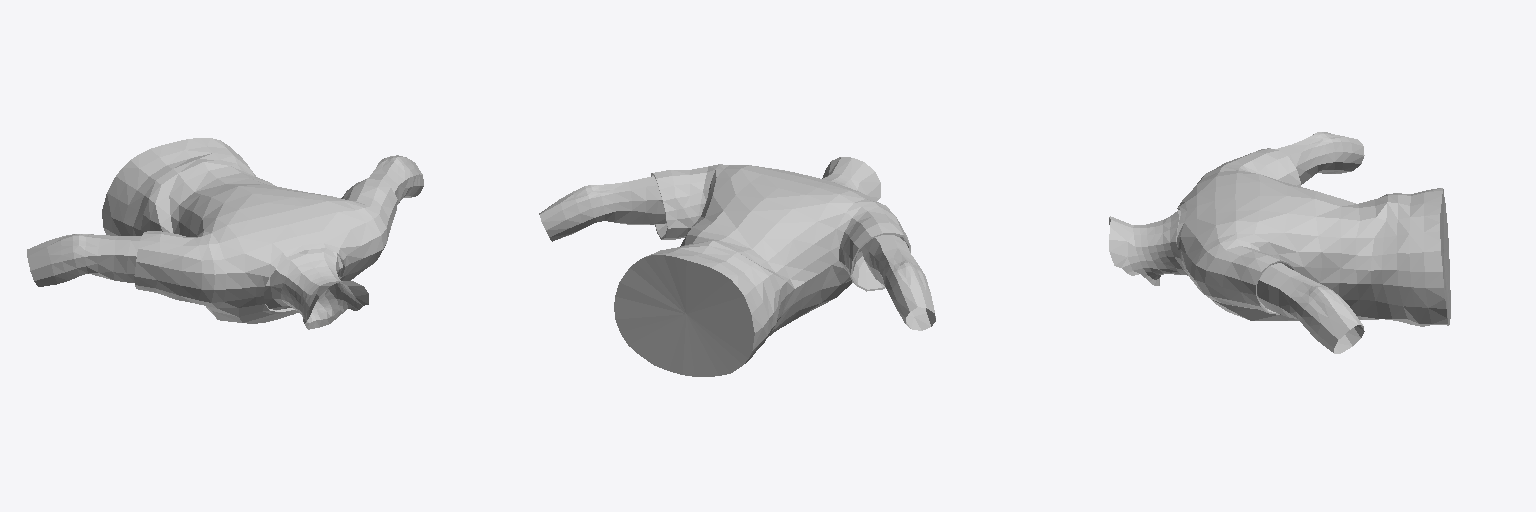
Rendered from Cloth.obj.
3 renders of one model, left to right at view 1: azimuth 30°, elevation 25°; view 2: azimuth 150°, elevation 25°; view 3: azimuth 270°, elevation 25°, orthographic.
Visible parts, largest first — view 1: Cloth, Cloth_1, Cloth_2; view 2: Cloth, Cloth_1, Cloth_2; view 3: Cloth, Cloth_1, Cloth_2.
Part boxes in pixels (bbox=[...]): Cloth: bbox=[102, 138, 397, 323]; Cloth_1: bbox=[27, 155, 423, 309]; Cloth_2: bbox=[270, 252, 368, 329]; Cloth: bbox=[614, 164, 910, 376]; Cloth_1: bbox=[539, 176, 935, 330]; Cloth_2: bbox=[822, 157, 880, 200]; Cloth: bbox=[1177, 148, 1450, 326]; Cloth_1: bbox=[1176, 132, 1364, 353]; Cloth_2: bbox=[1109, 211, 1187, 285].
Bounding box in the file's own units: 0.8668 × 0.255 × 0.6533.